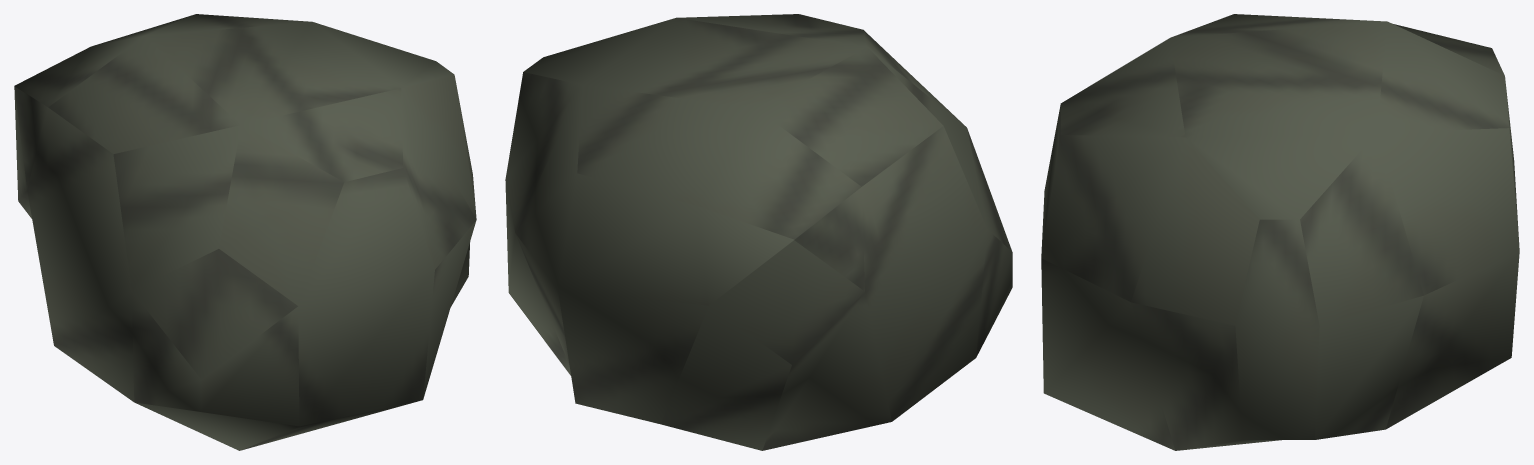
The model's file is Phase 1 Bamboo 3.fbx.
3 renders of one model, left to right at view 1: azimuth 30°, elevation 25°; view 2: azimuth 150°, elevation 25°; view 3: azimuth 270°, elevation 25°, orthographic. The views are drawn at different scales.
Parts seen in each view (by area): view 1: Phase 1 Bamboo 3; view 2: Phase 1 Bamboo 3; view 3: Phase 1 Bamboo 3.
Part boxes in pixels (box(x1,y1,x2,y2)): Phase 1 Bamboo 3: box(14, 14, 476, 450); Phase 1 Bamboo 3: box(505, 14, 1012, 450); Phase 1 Bamboo 3: box(1041, 14, 1519, 450).
Bounding box in the file's own units: 27.53 × 24.49 × 28.01.
